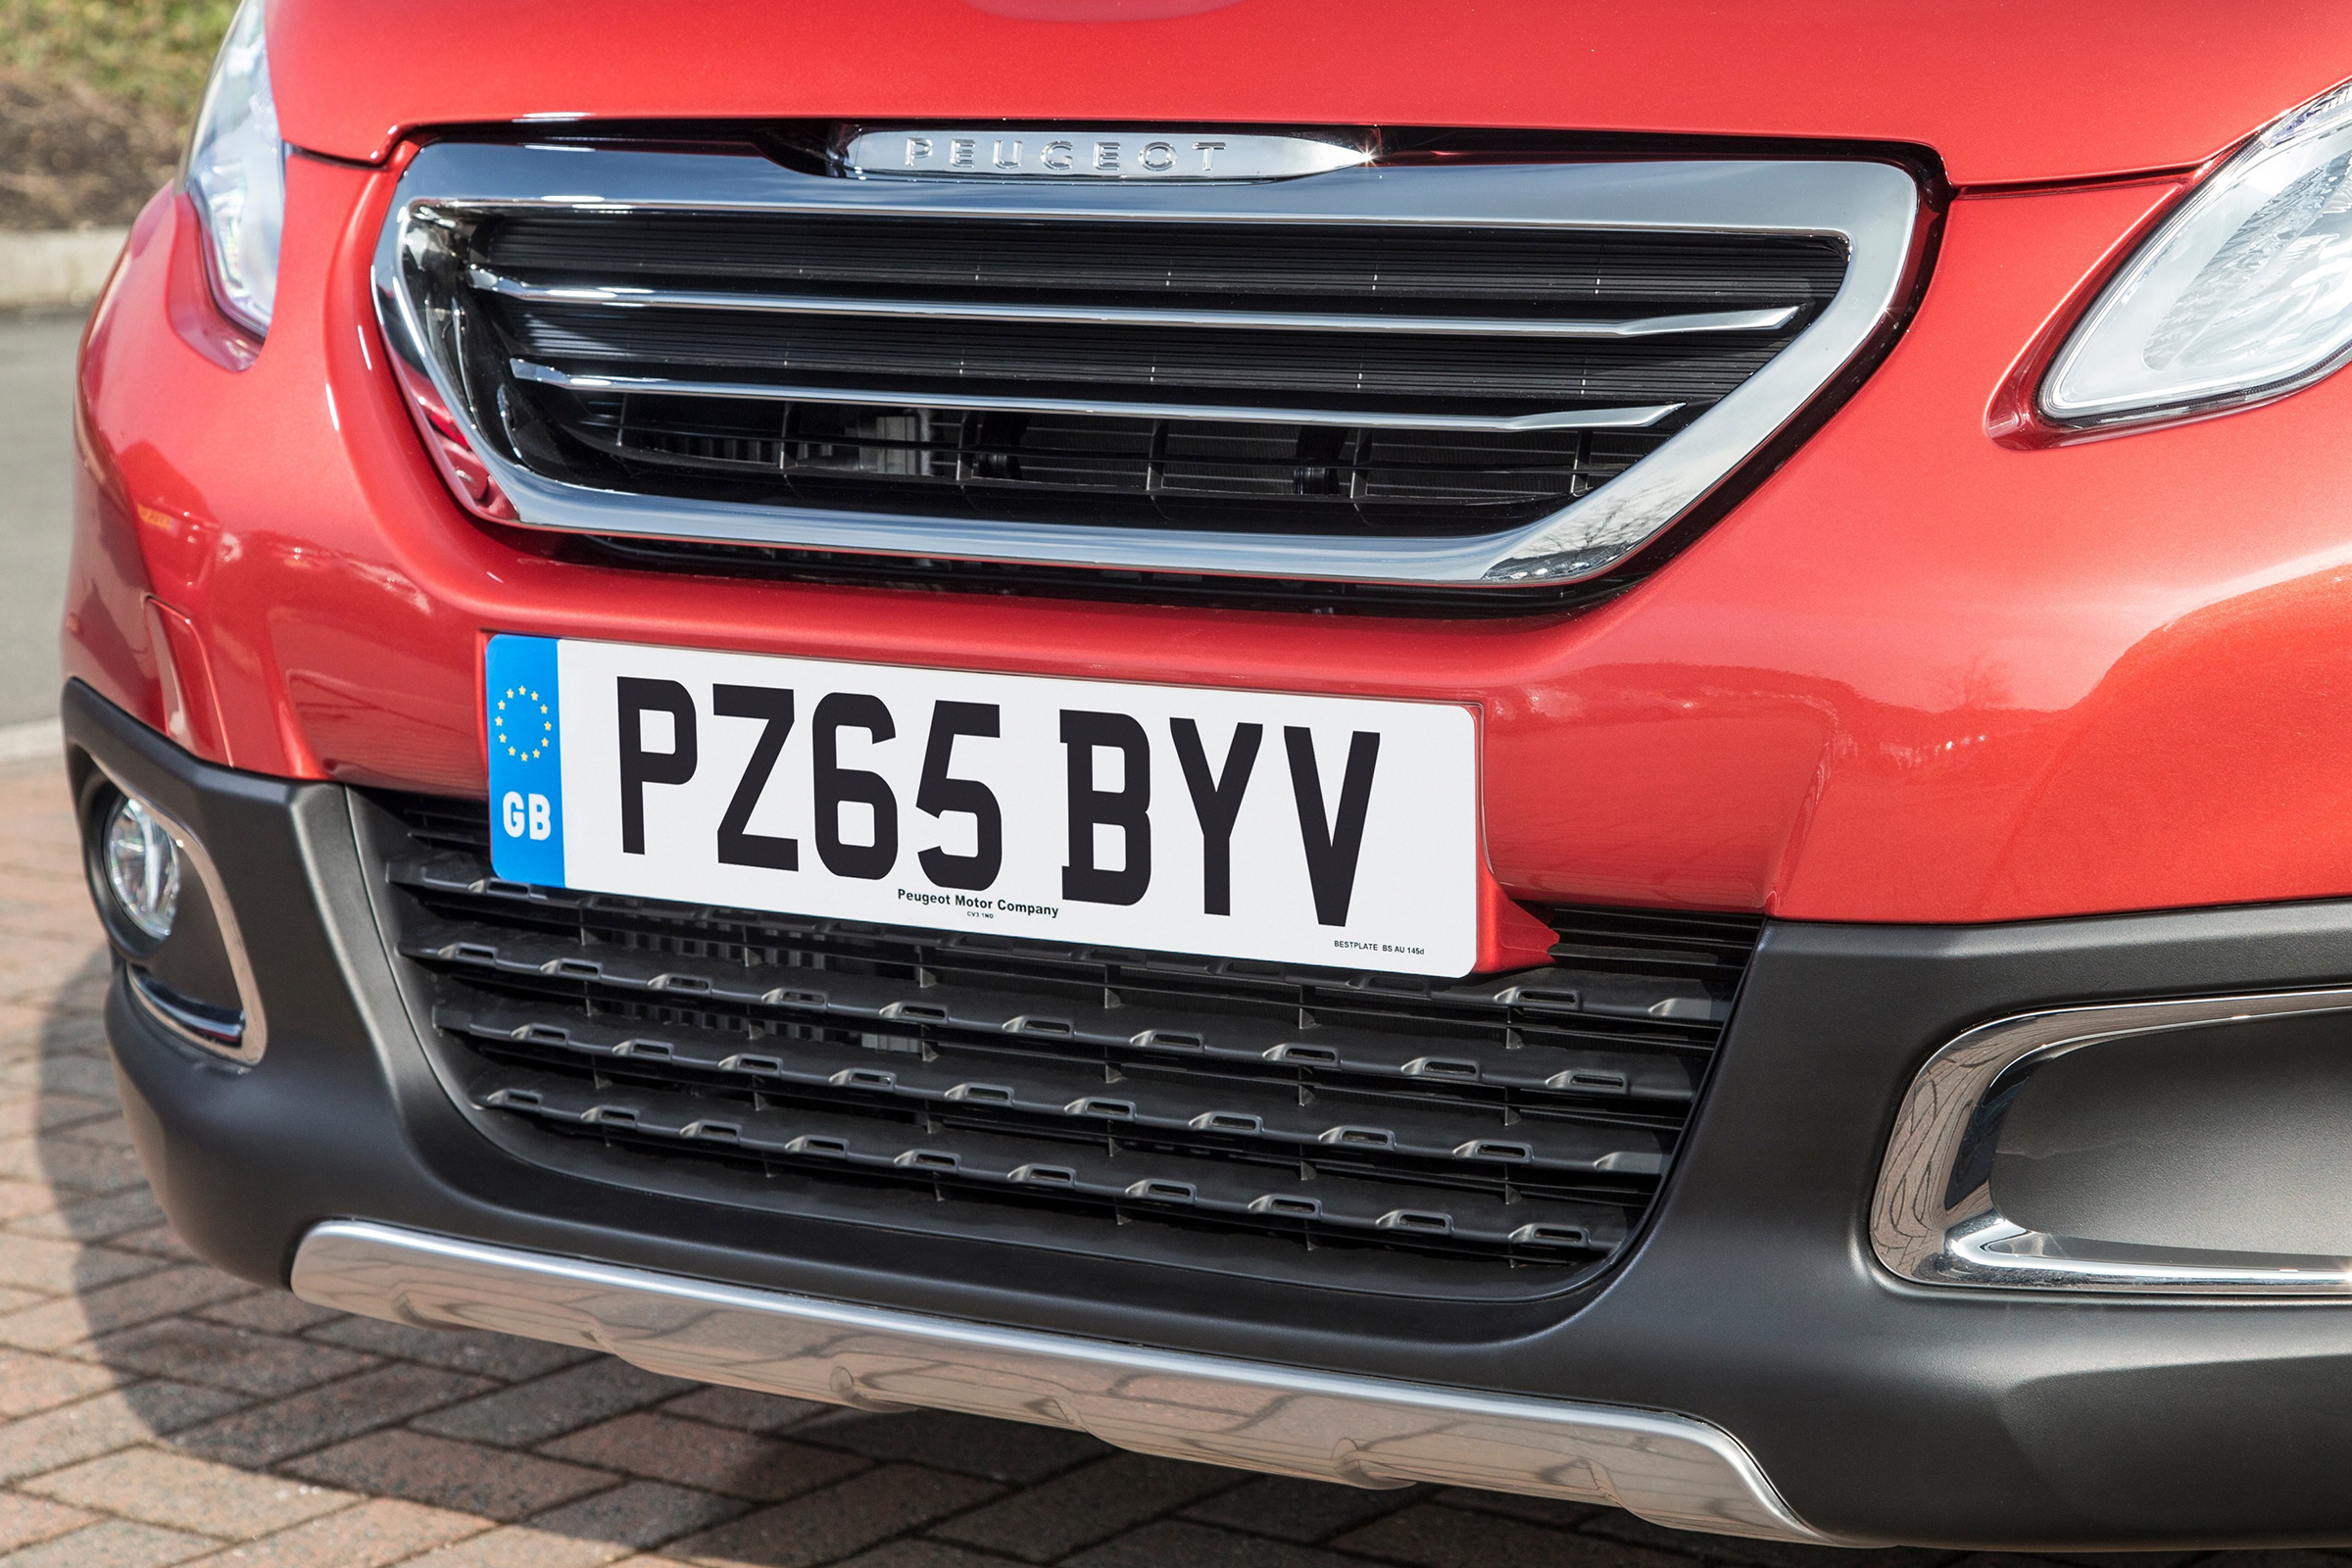license plate: (484, 619, 1502, 993)
